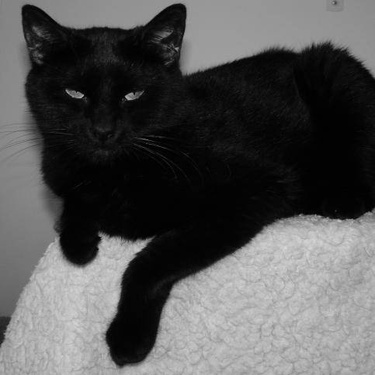cat: (5, 8, 369, 364)
